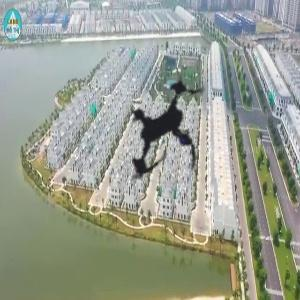drone: (61, 25, 268, 232)
